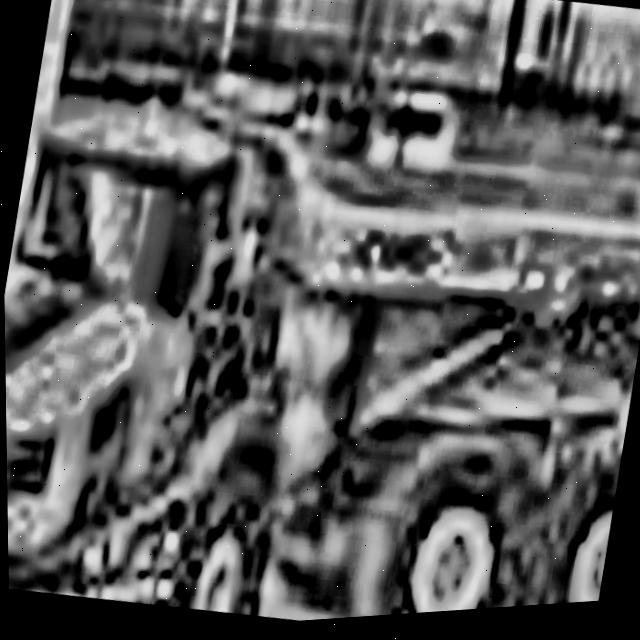dump_truck: (1, 33, 640, 640)
